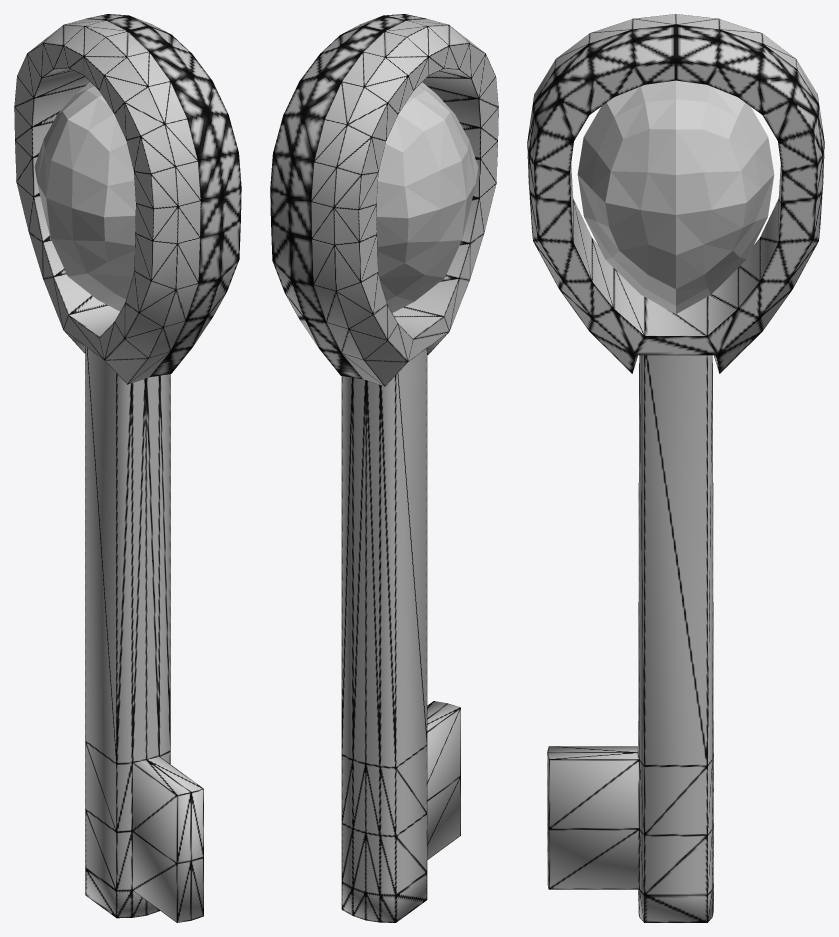
The model's file is Key.obj.
3 renders of one model, left to right at view 1: azimuth 30°, elevation 25°; view 2: azimuth 150°, elevation 25°; view 3: azimuth 270°, elevation 25°, orthographic.
Parts seen in each view (by area): view 1: Cube.001; view 2: Cube.001; view 3: Cube.001.
Boxes of the visible parts, x1=… form: Cube.001: x1=14, y1=14, x2=241, y2=922; Cube.001: x1=270, y1=14, x2=498, y2=922; Cube.001: x1=527, y1=14, x2=824, y2=922.
Bounding box in the file's own units: 1.8 × 9.16 × 2.79.
